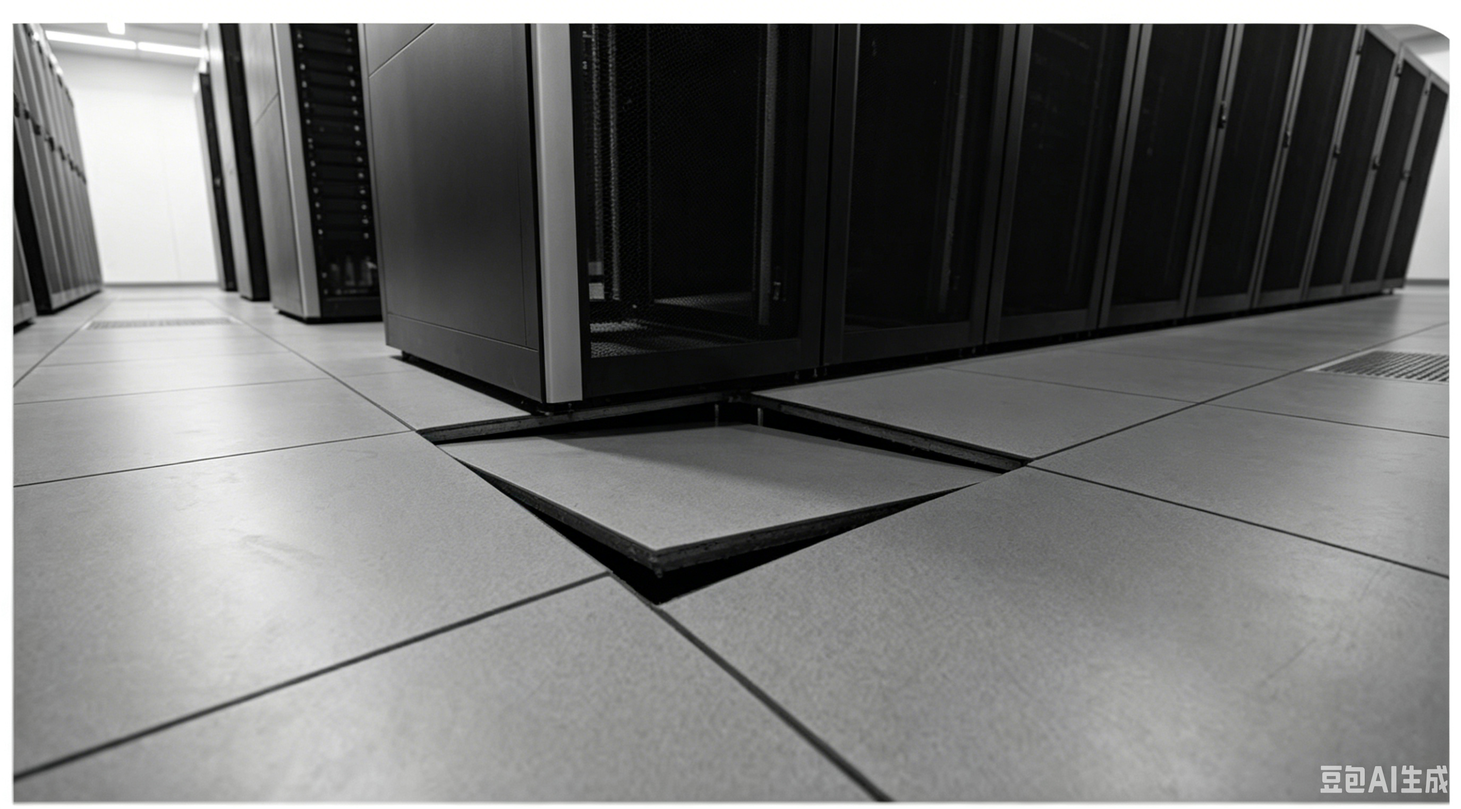floor_defect: (409, 391, 1031, 626)
